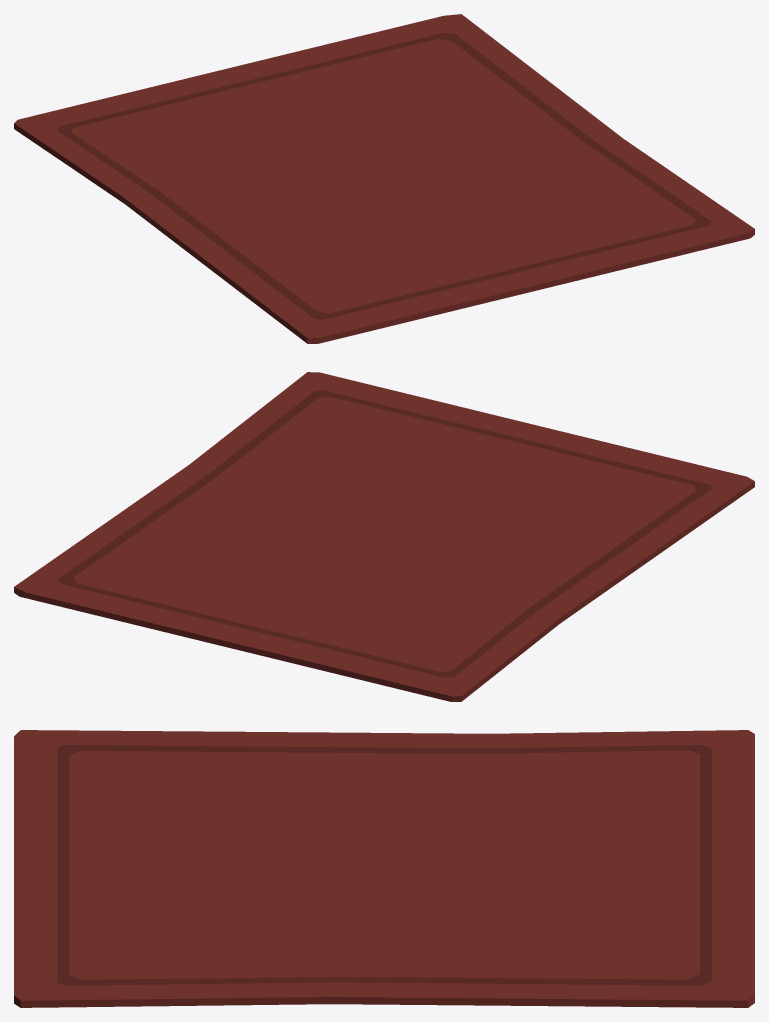
File: DrumRug.obj
3 renders of one model, top to bottom at view 1: azimuth 30°, elevation 25°; view 2: azimuth 150°, elevation 25°; view 3: azimuth 270°, elevation 25°, orthographic. The views are drawn at different scales.
Size of the model in its own units: 2.94 by 0.0366 by 3.4.
Materials: 1 (1 with a texture image).
